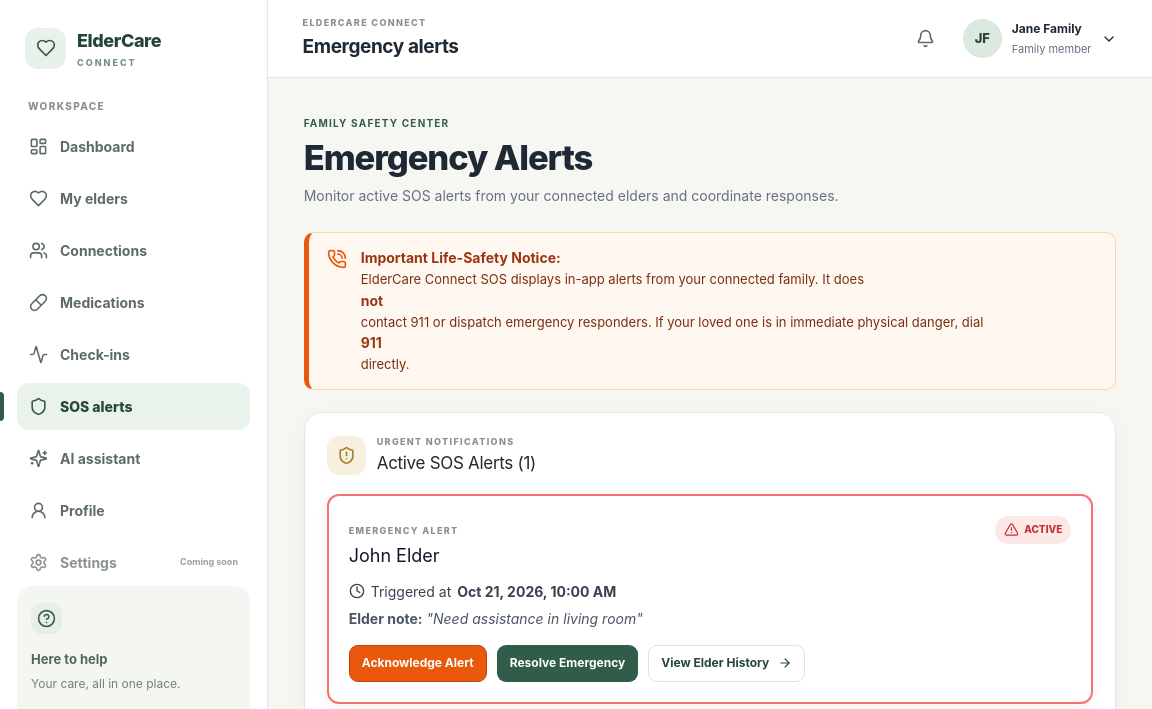
it: Module 6 SOS Emergency System frontend workflows › family members can view active alerts and perform acknowledge and resolve actions
Expected: the heading "Emergency Alerts" is shown, [304,137,592,178]
Expected: the heading "John Elder" is shown, [349,545,440,566]
Click Acknowledge Alert button
Click the button "Acknowledge Alert" at (418, 663), box [349,645,487,682]
(page scrolled)
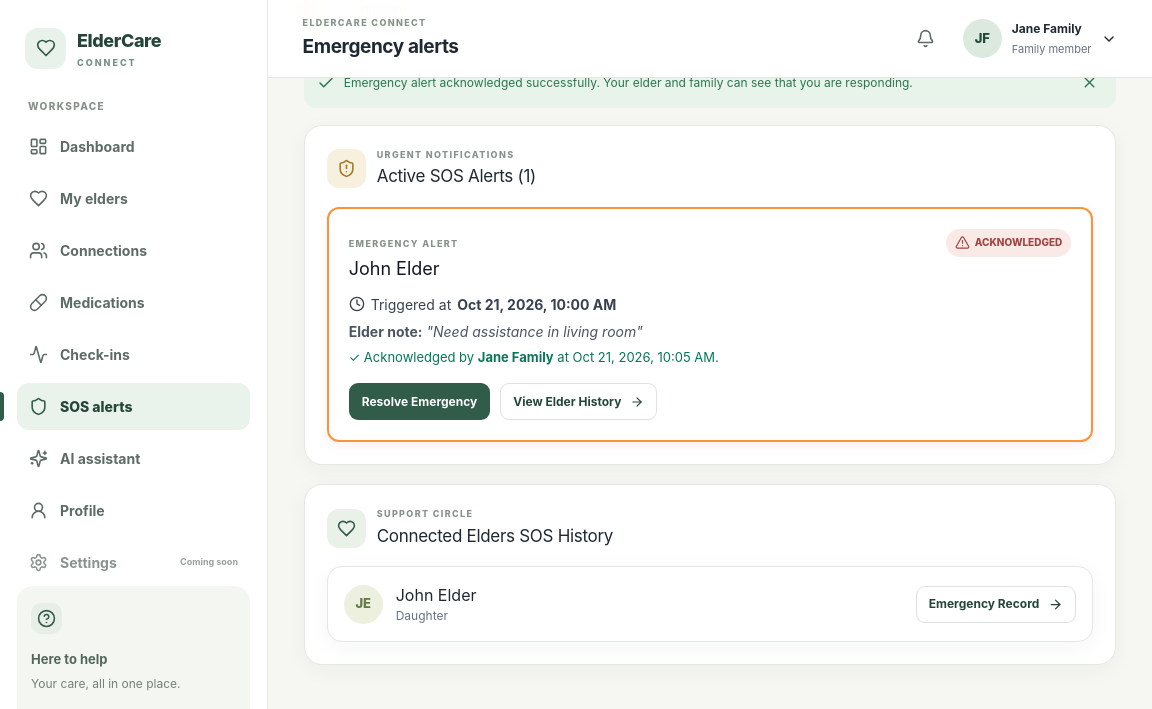
Expected: the text "Emergency alert acknowledged successfully" is shown, [344,75,913,90]
Click Resolve Emergency button
Click the button "Resolve Emergency" at (420, 402), box [349,383,490,420]
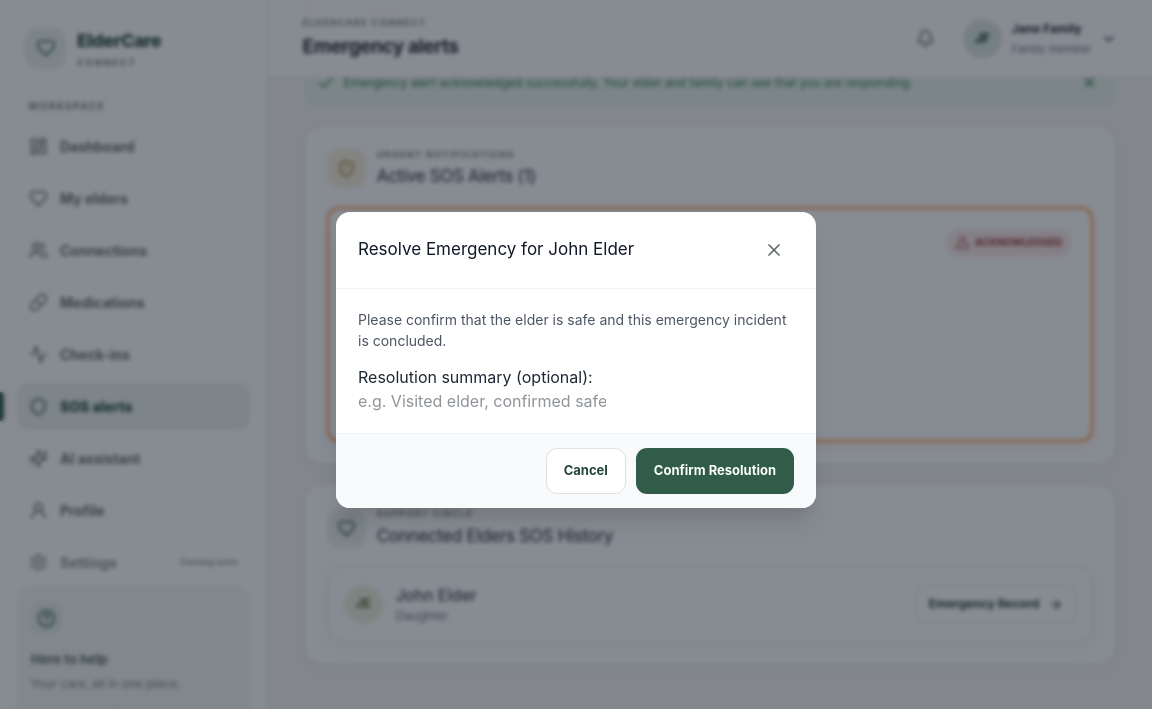
Expected: the heading "Resolve Emergency for John Elder" is shown, [358,237,634,263]
Click the button "Confirm Resolution" at (715, 471), box [636,448,794,494]
(page scrolled)
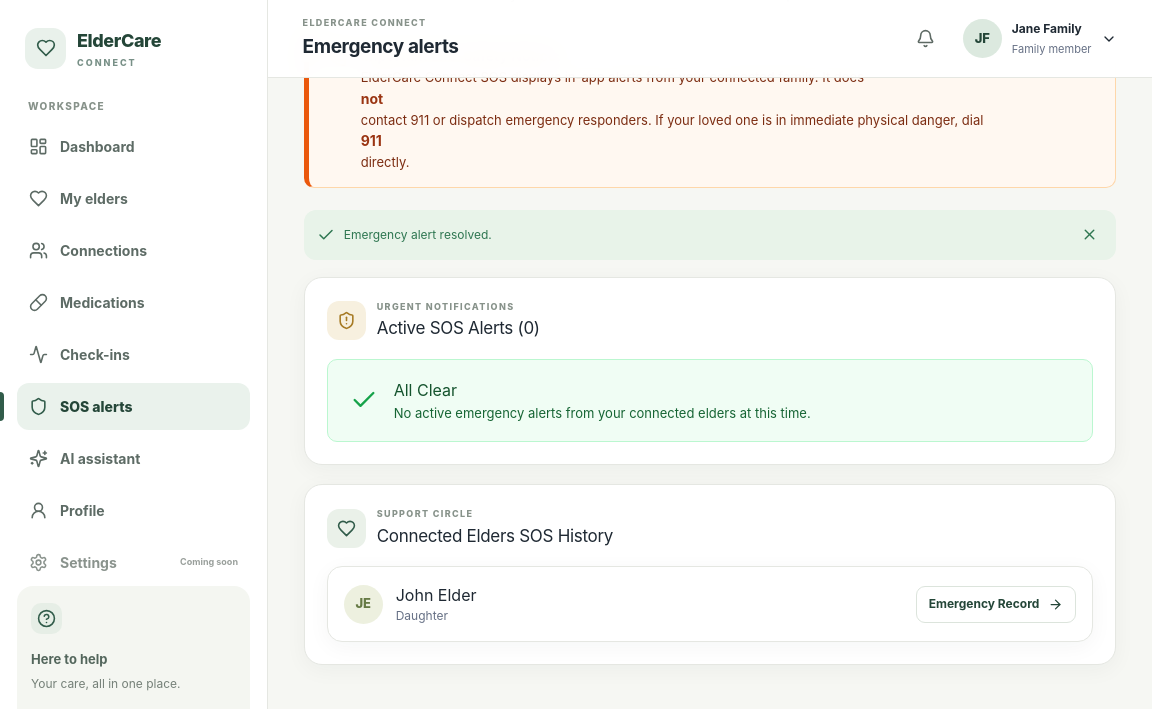
Expected: the text "Emergency alert resolved." is shown, [344,227,492,242]
Expected: the heading "All Clear" is shown, [394,380,457,400]
